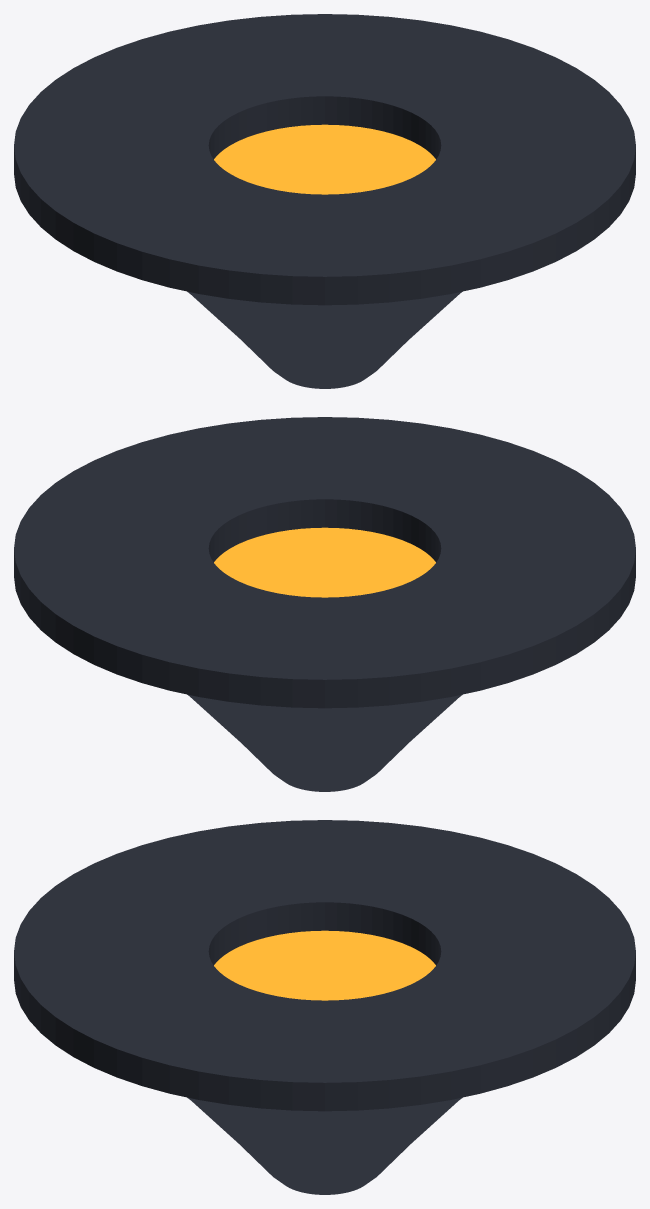
File: tip_taper_balance.glb
3 views of the same model, one above another, from view 1: azimuth 30°, elevation 25°; view 2: azimuth 150°, elevation 25°; view 3: azimuth 270°, elevation 25° (orthographic).
Parts seen in each view (by area): view 1: GEO_tip_taper_balance_NSS_V1_COLLAR, GEO_tip_taper_balance_BODY; view 2: GEO_tip_taper_balance_NSS_V1_COLLAR, GEO_tip_taper_balance_BODY; view 3: GEO_tip_taper_balance_NSS_V1_COLLAR, GEO_tip_taper_balance_BODY.
Boxes of the visible parts, x1,y1,x2,y2 form: GEO_tip_taper_balance_NSS_V1_COLLAR: (14,14,635,305); GEO_tip_taper_balance_BODY: (187,124,462,388); GEO_tip_taper_balance_NSS_V1_COLLAR: (14,417,635,708); GEO_tip_taper_balance_BODY: (187,527,462,791); GEO_tip_taper_balance_NSS_V1_COLLAR: (14,820,635,1111); GEO_tip_taper_balance_BODY: (187,930,462,1194).
Size of the model in its own units: 0.0214 by 0.0085 by 0.0214.
